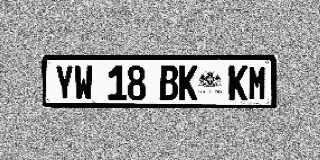1: (108, 65, 127, 101)
8: (127, 65, 146, 101)
B: (159, 65, 178, 101)
K: (228, 65, 248, 101), (179, 65, 198, 101)
M: (248, 65, 267, 101)
W: (74, 65, 93, 101)
Y: (55, 65, 74, 101)
